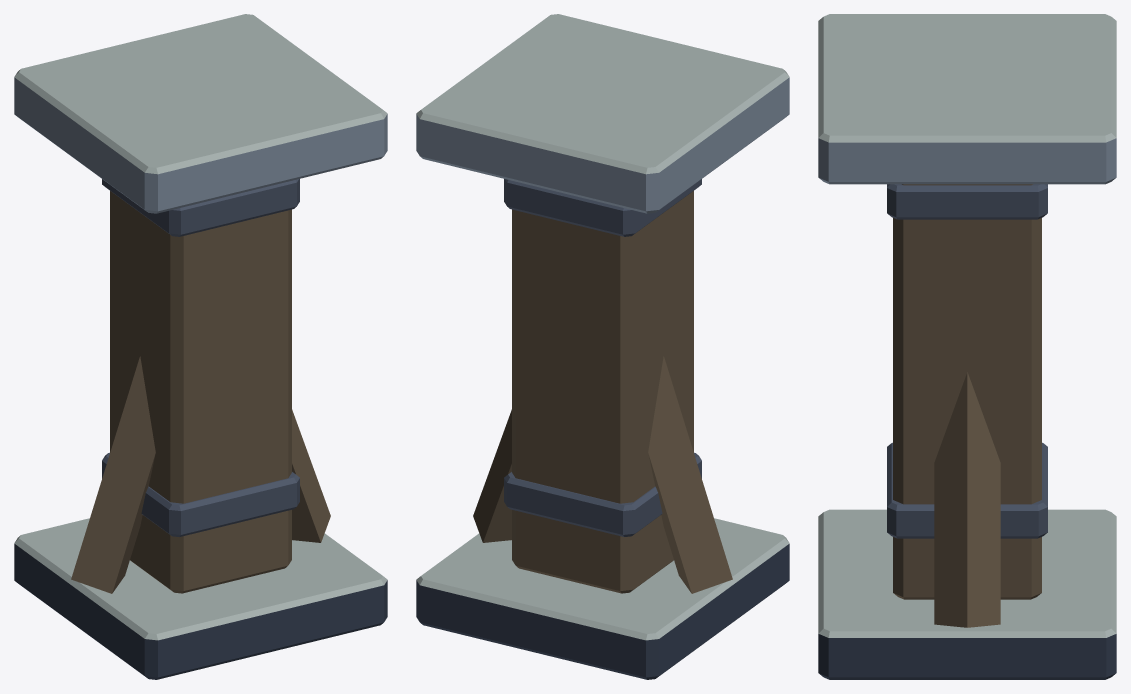
File: pillar-small.glb
3 views of the same model, side by side, from view 1: azimuth 30°, elevation 25°; view 2: azimuth 150°, elevation 25°; view 3: azimuth 270°, elevation 25° (orthographic). The views are drawn at different scales.
Visible parts, largest first — view 1: pillar-small__body; view 2: pillar-small__body; view 3: pillar-small__body.
Boxes of the visible parts, <box> form: pillar-small__body: <box>14,14,387,679</box>; pillar-small__body: <box>416,14,789,679</box>; pillar-small__body: <box>818,14,1116,679</box>.
Size of the model in its own units: 0.7702 by 1.45 by 0.72.
